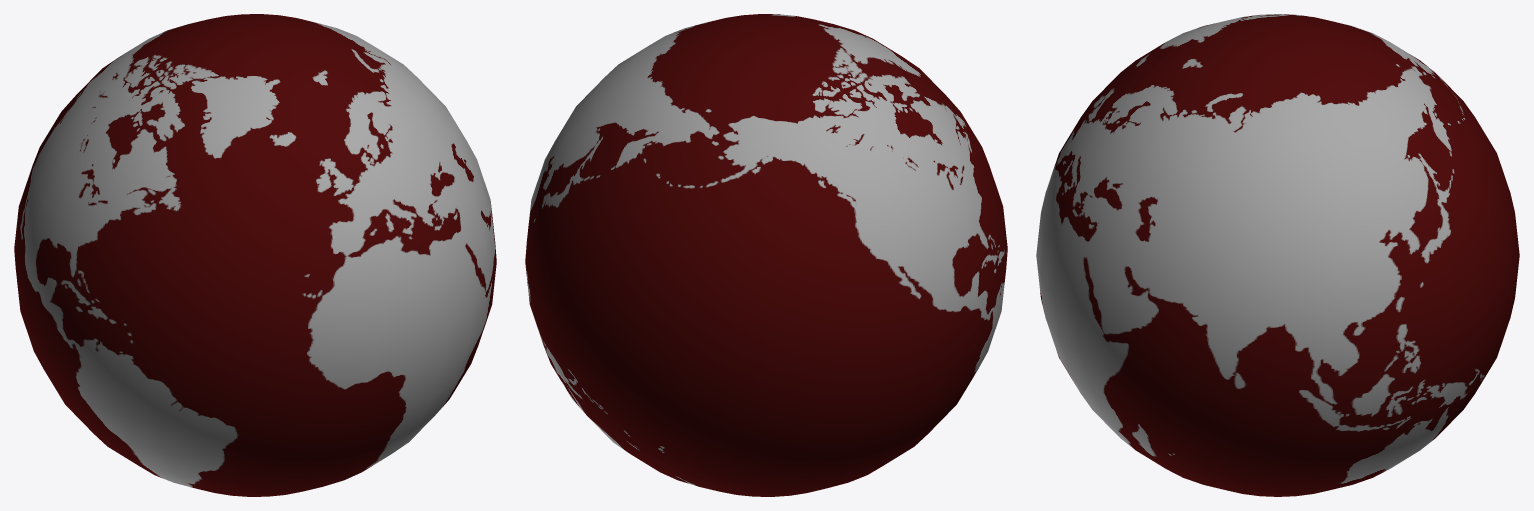
File: world.FBX
The picture shows the model from 3 angles, left to right: view 1: azimuth 30°, elevation 25°; view 2: azimuth 150°, elevation 25°; view 3: azimuth 270°, elevation 25°; orthographic projection.
Visible parts, largest first — view 1: outersphere; view 2: outersphere; view 3: outersphere.
Part boxes in pixels (x1,y1,x2,y2): outersphere: (14, 14, 496, 496); outersphere: (525, 14, 1007, 496); outersphere: (1036, 14, 1519, 496).
Size of the model in its own units: 183 by 183 by 183.
